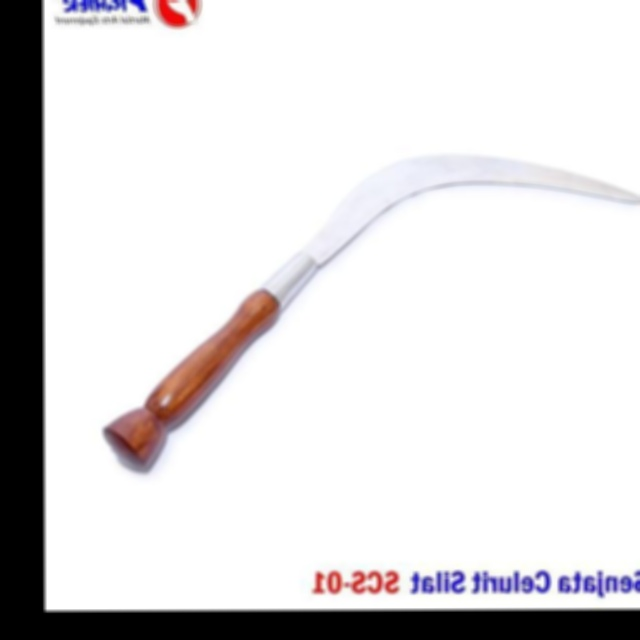Sharp-Object: (87, 111, 640, 480)
